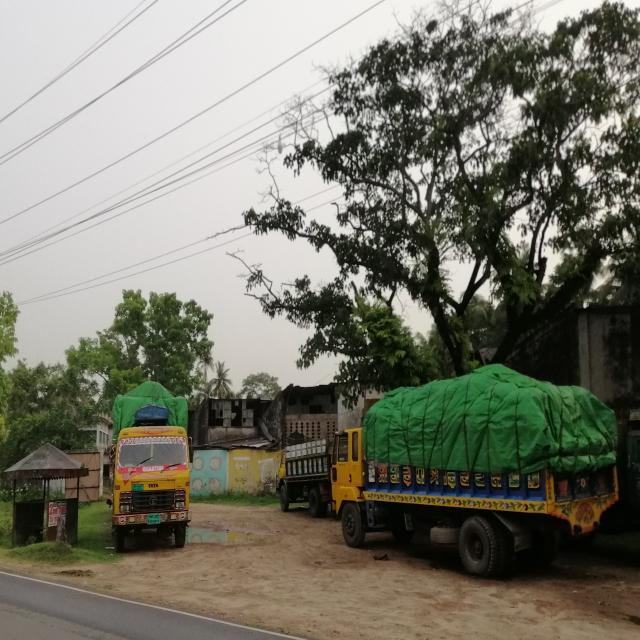Truck: (330, 370, 625, 571), (113, 372, 198, 554)
